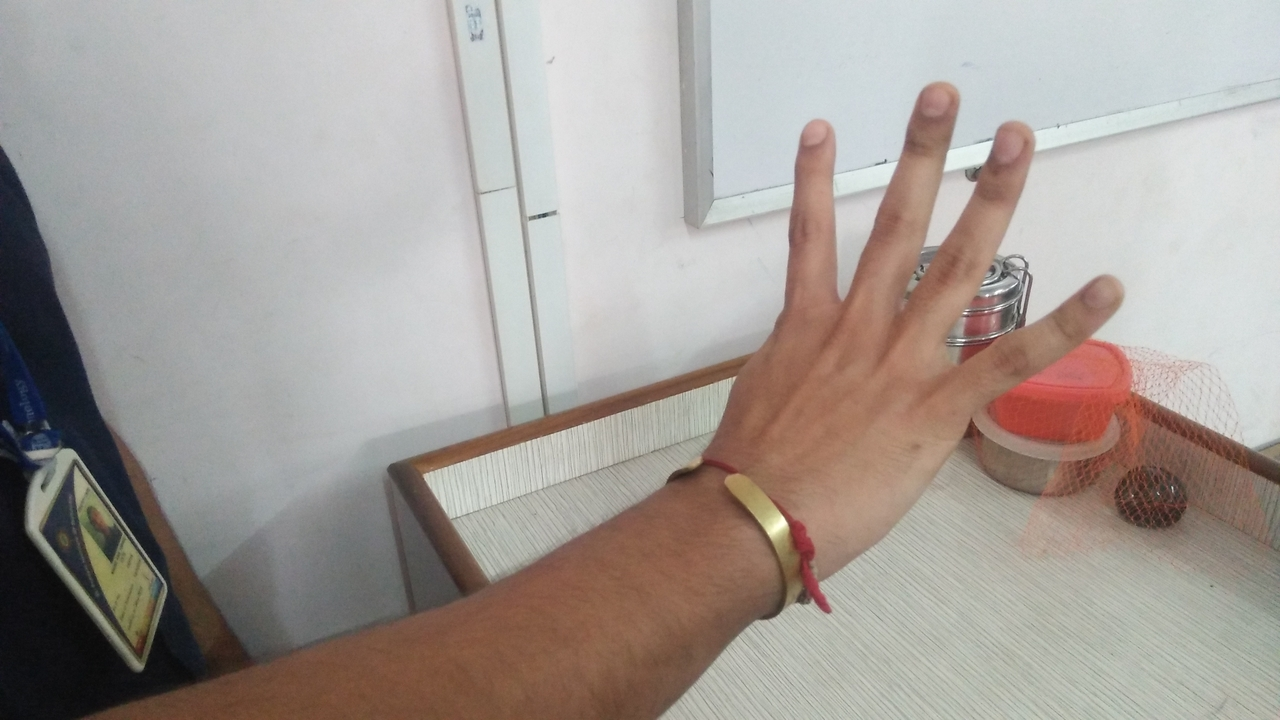fingertip: (1064, 266, 1142, 318), (982, 114, 1052, 168), (910, 78, 968, 122), (794, 112, 846, 152)
